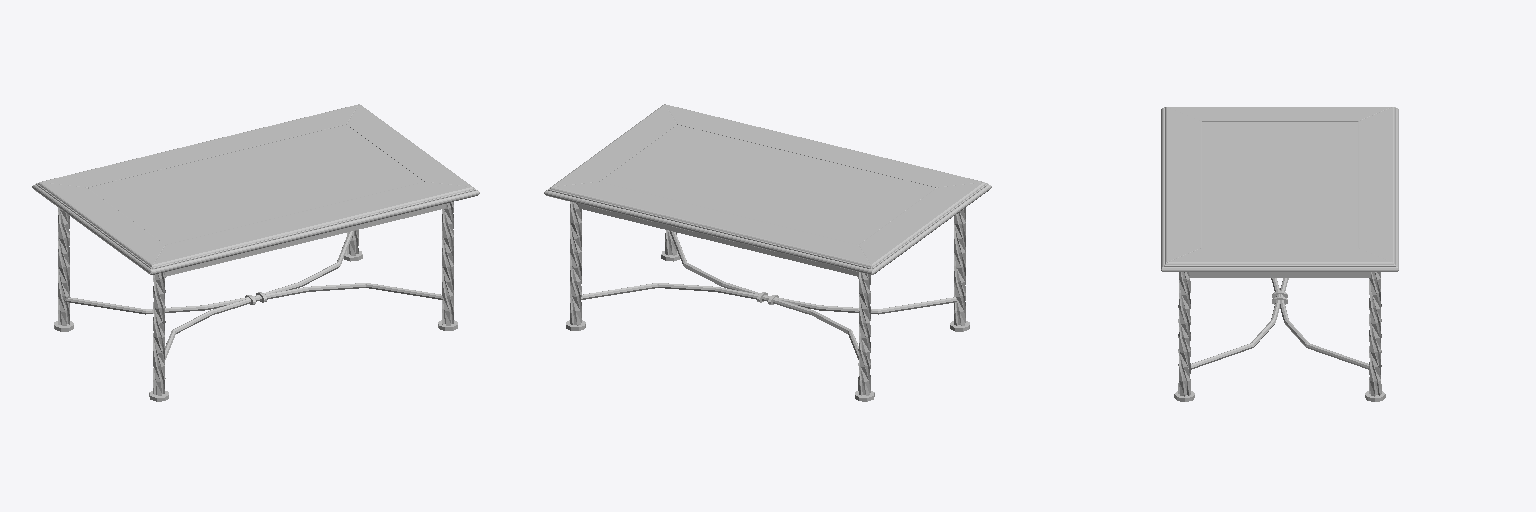
File: LV_sofaTable.obj
3 views of the same model, side by side, from view 1: azimuth 30°, elevation 25°; view 2: azimuth 150°, elevation 25°; view 3: azimuth 270°, elevation 25° (orthographic).
Parts seen in each view (by area): view 1: 256; view 2: 256; view 3: 256.
Boxes of the visible parts, x1,y1,x2,y2 form: 256: [32, 104, 479, 401]; 256: [544, 104, 991, 401]; 256: [1161, 107, 1398, 401].
Bounding box in the file's own units: 1.98 × 0.8191 × 1.24.